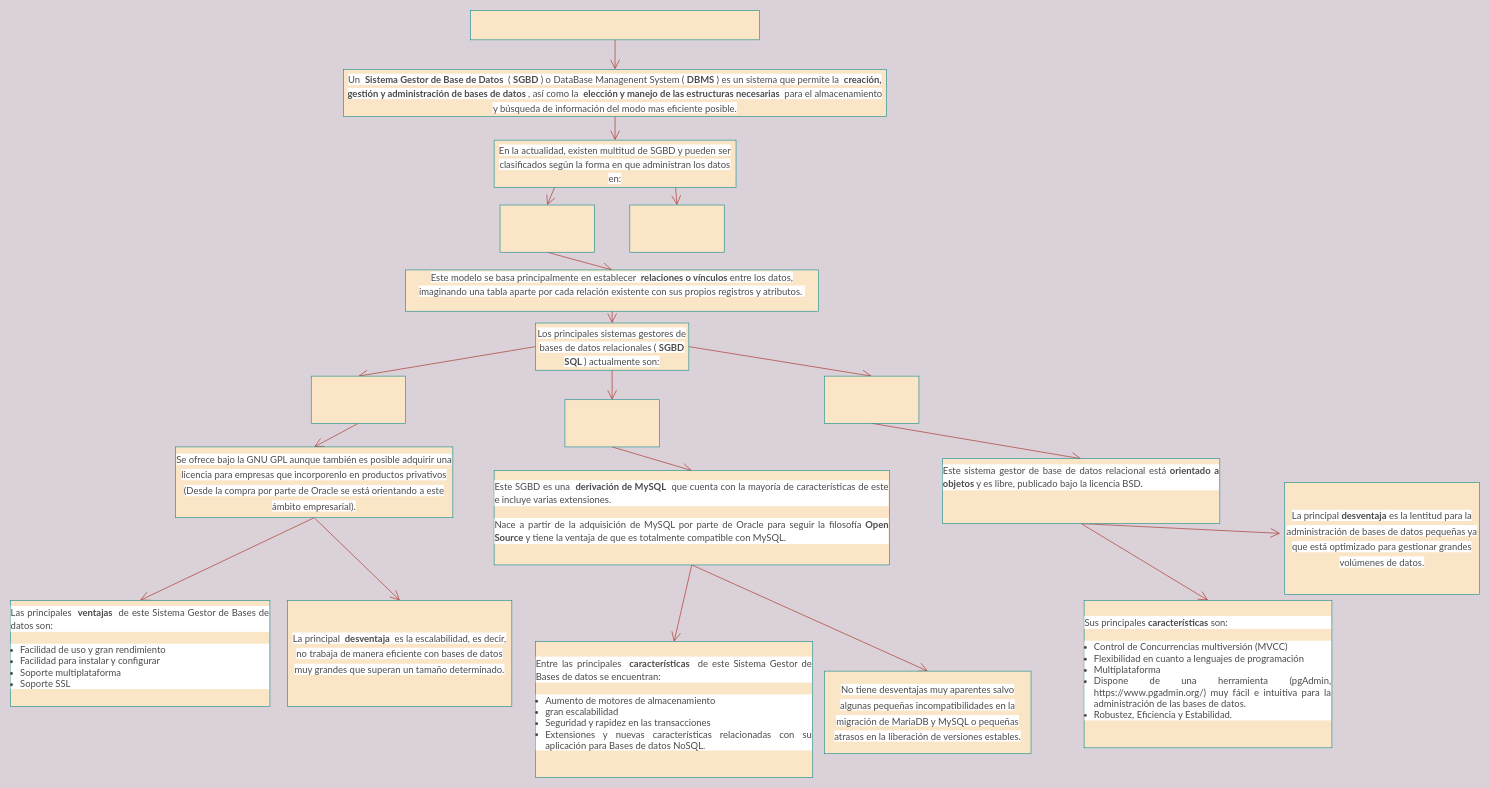
The diagram is 1490 pixels wide and 788 high, and some of its shapes have lost their labels. Here are the shapes that lost their labels. From the top down, the centre of each, then its label:
point (615, 25): GESTORES DE BASES DE DATOS
point (546, 228): Relacionales (SQL)
point (676, 228): No relacionales (NoSQL)
point (358, 399): mysql
point (871, 399): PostgreSQL
point (611, 423): MariaDB
